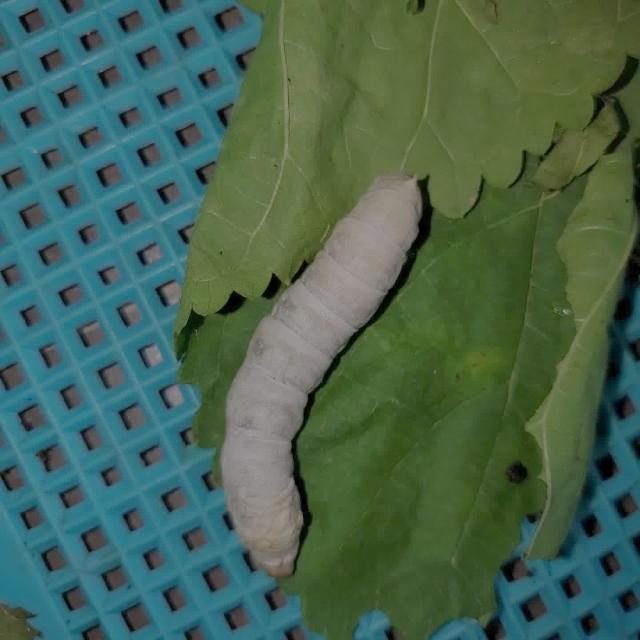Grasserie: (199, 156, 428, 582)
